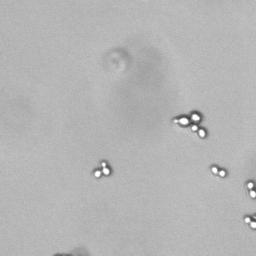budding: (91, 159, 114, 182), (207, 162, 229, 184), (242, 212, 256, 232), (245, 179, 256, 200)
cluster: (169, 107, 211, 140)
